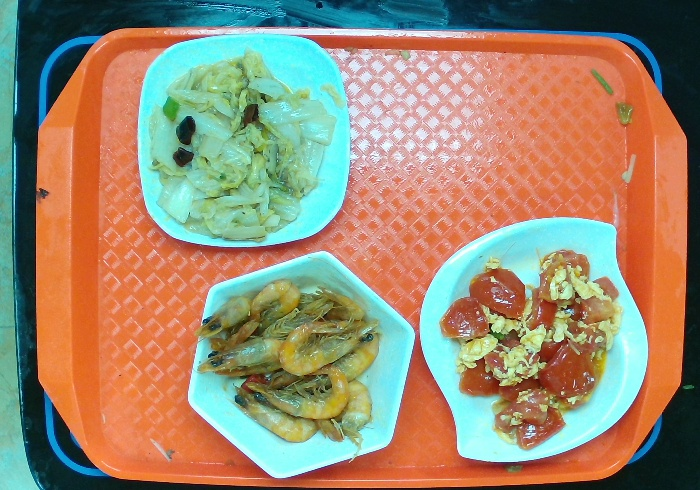RJxy-Liu_Jiao_Wan: (188, 249, 417, 482)
RJxy-Shuang_Jiao_Pan: (416, 214, 650, 465)
RJxy-Si_Fang_Wan: (138, 29, 349, 252)
